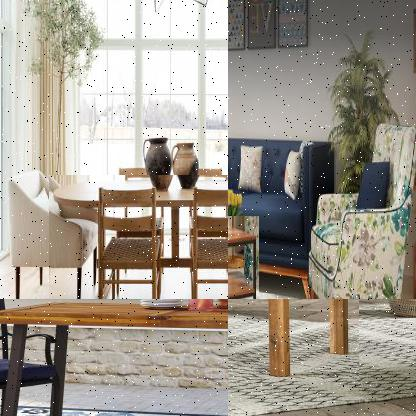table: (0, 299, 227, 415), (47, 175, 227, 298), (228, 299, 360, 381)
